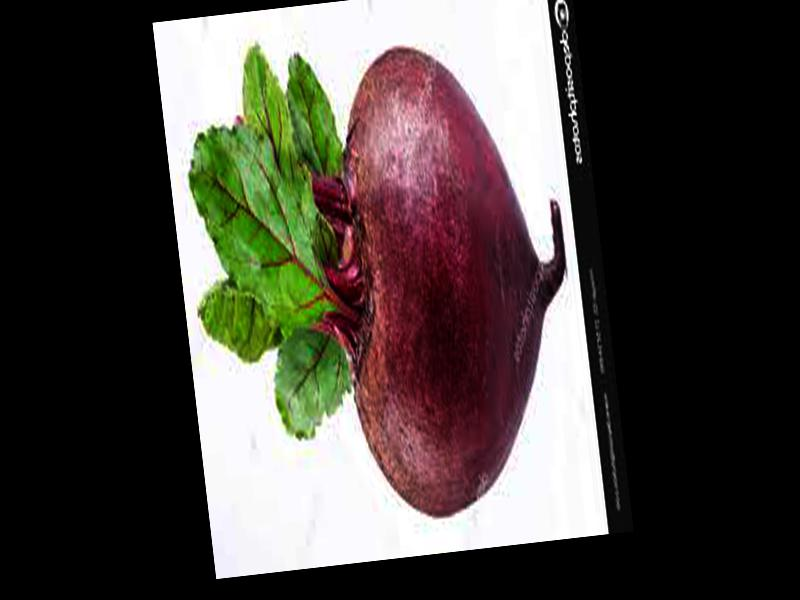Beet: (169, 14, 590, 542)
